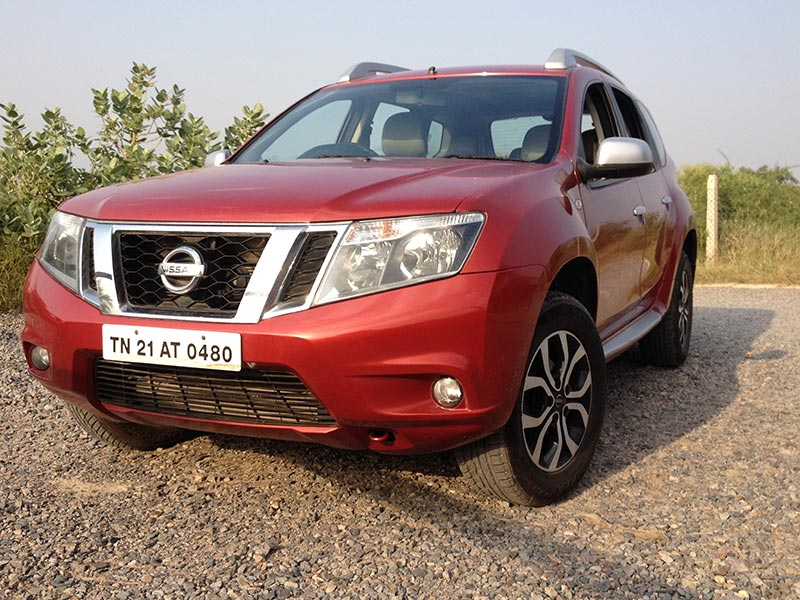number_plate: (96, 322, 260, 380)
